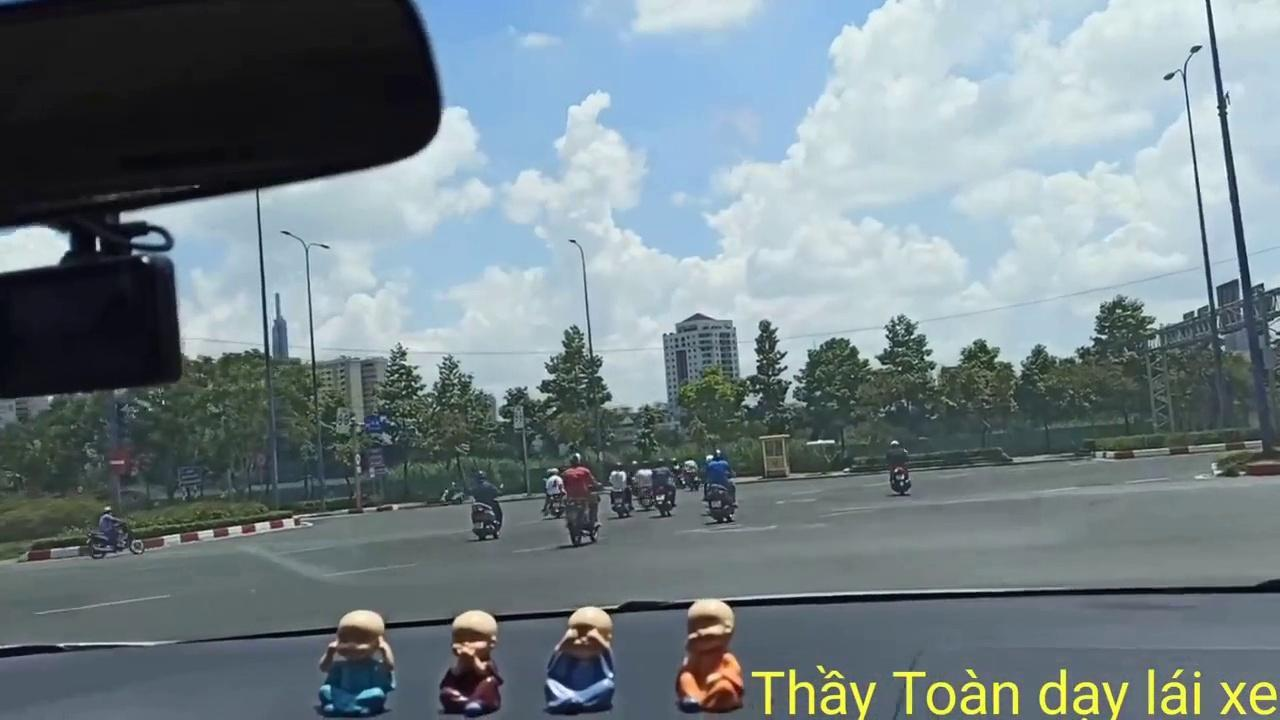Cấm đi ngược chiều: (106, 445, 129, 479)
